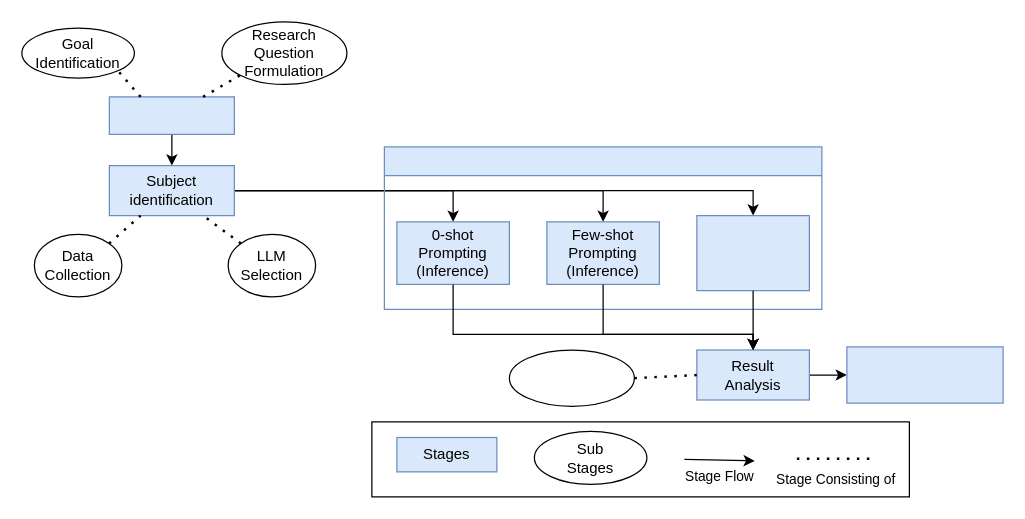
This 1025x519 diagram has some shape labels left out. Here are the shapes that lost their labels. From the top down, the box of each, then its label:
(108, 96, 234, 134): Study planing
(383, 146, 822, 309): Experimental Procedure
(696, 214, 809, 291): Fine Tuning (Training + Inference)
(508, 349, 634, 406): Inference from metrics
(846, 346, 1003, 403): Answers to Research Questions
